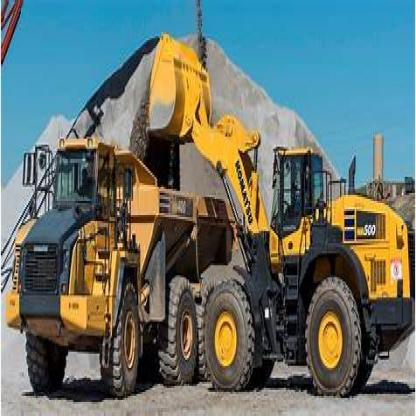bull_dozer/loader/grader: (144, 28, 415, 410)
